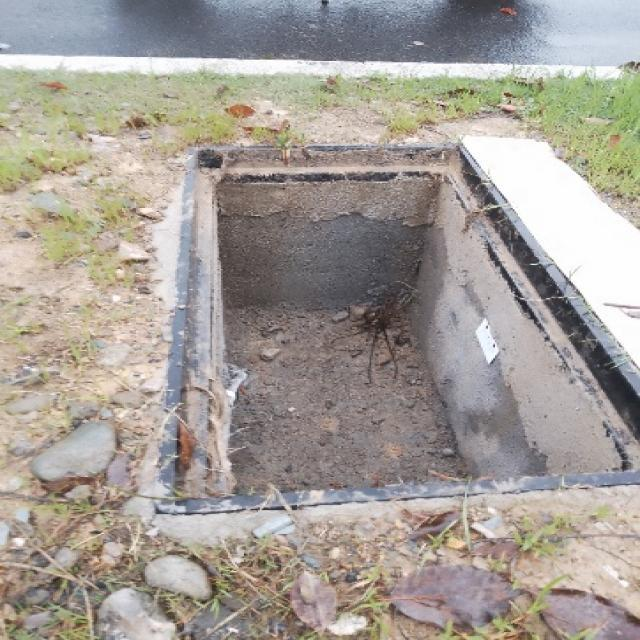Faulty: (134, 137, 640, 540)
